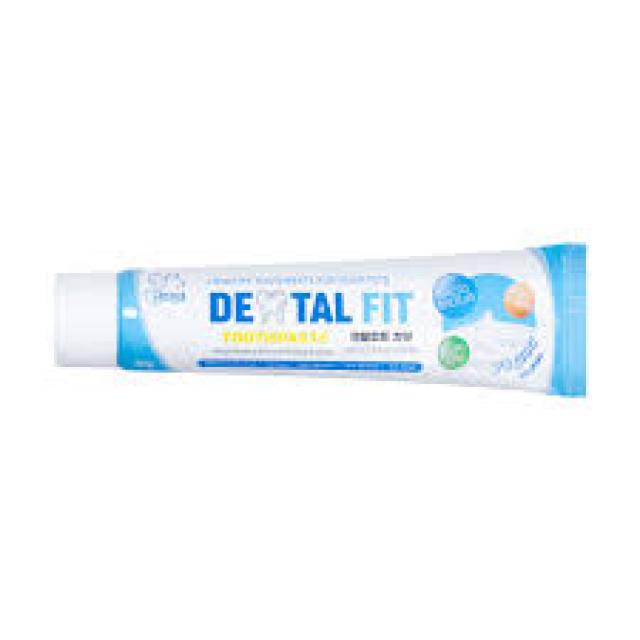toothpaste: (16, 253, 610, 410)
